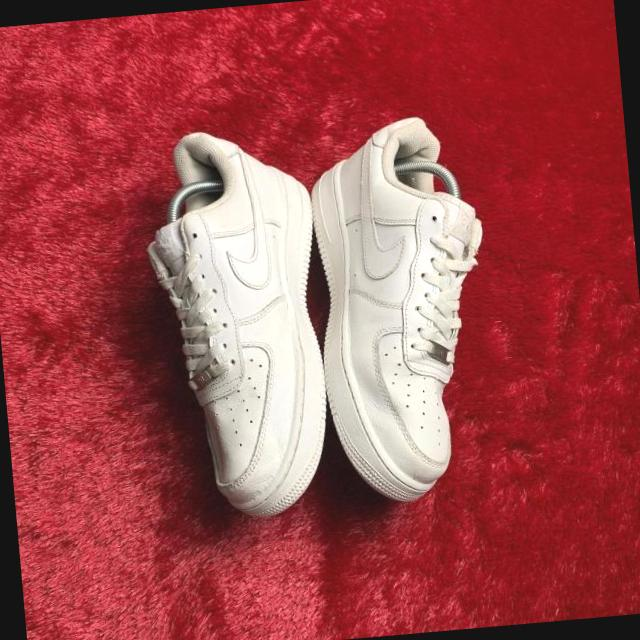nike_fake_airforce: (296, 112, 502, 503), (135, 125, 335, 527)
